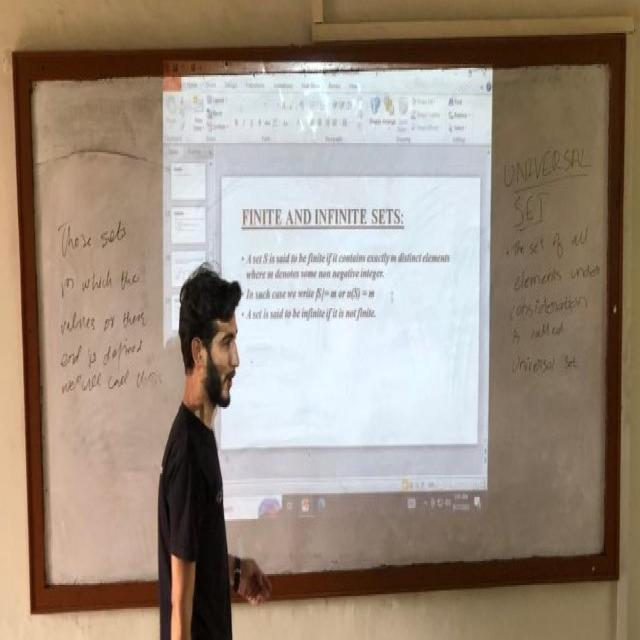Instructor: (150, 262, 240, 640)
Slide: (160, 66, 496, 526)
White-board: (21, 53, 616, 596)
